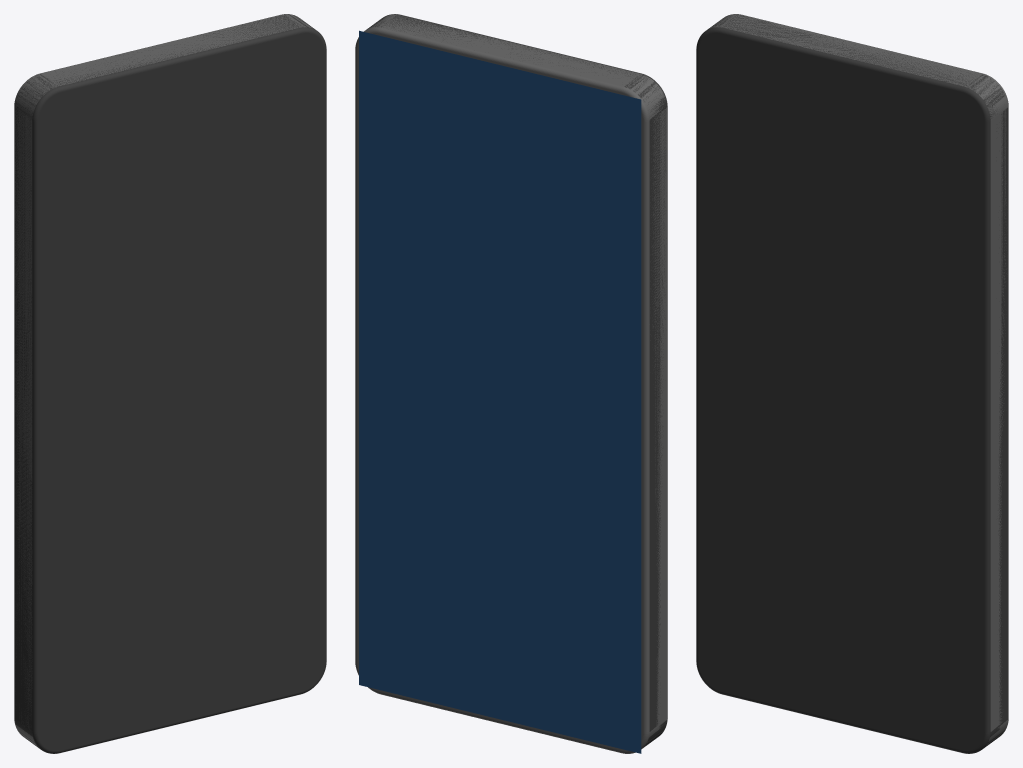
Rendered from cellphone.gltf.
The picture shows the model from 3 angles, left to right: view 1: azimuth 30°, elevation 25°; view 2: azimuth 150°, elevation 25°; view 3: azimuth 330°, elevation 25°; orthographic projection.
Bounding box in the file's own units: 7.7 × 16.7 × 1.02.
